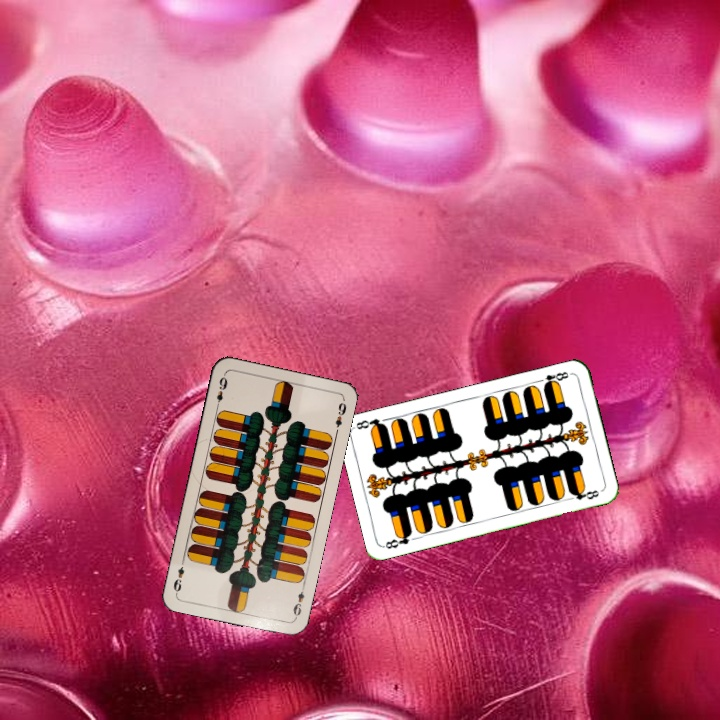E8: (534, 368, 571, 390), (380, 528, 415, 551)
E9: (289, 581, 307, 621), (212, 373, 230, 411)
